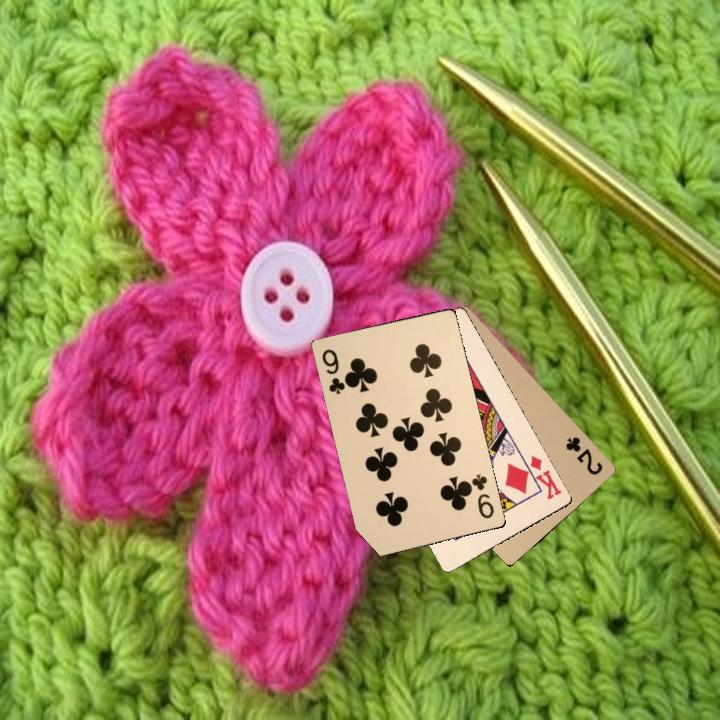2c: (561, 432, 605, 478)
9c: (465, 470, 497, 521), (318, 345, 347, 397)
Kd: (520, 452, 564, 502)
